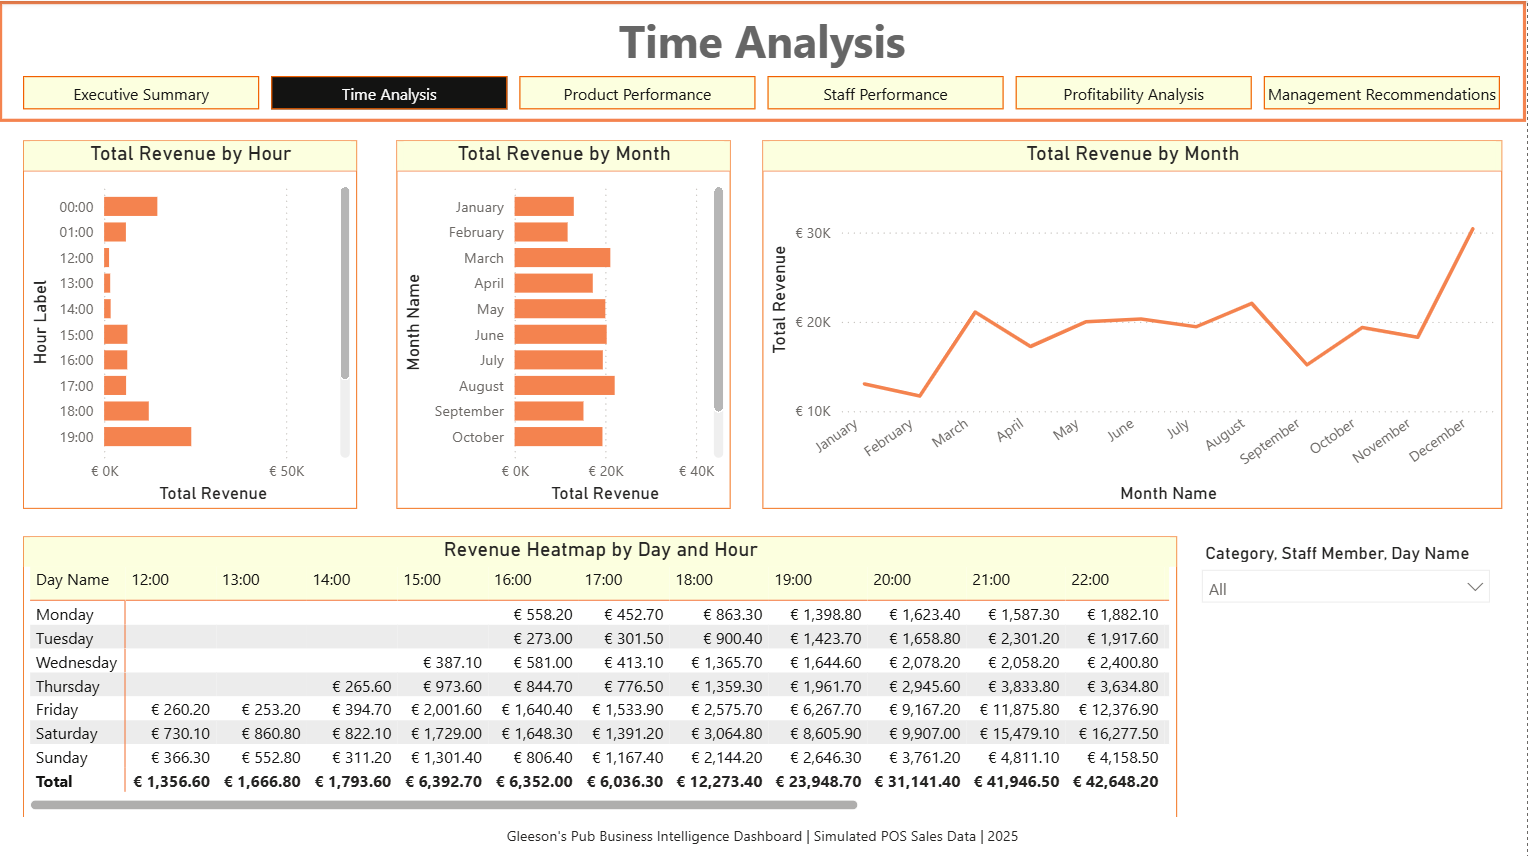

The dashboard page shown, as its layout file describes it:
{"tool":"powerbi","page":{"name":"Time Analysis","canvas":[1280,720],"ordinal":1},"visuals":[{"type":"clusteredBarChart","title":"Total Revenue by Hour","fields":{"Y":["pub_sales_data.Total Revenue"],"Category":["pub_sales_data.Hour Label"]},"box":[20,117.1,280,308.6],"z":0},{"type":"barChart","title":"Total Revenue by Month","fields":{"Category":["pub_sales_data.Month Name"],"Y":["pub_sales_data.Total Revenue"]},"box":[332.9,117.1,280,308.6],"z":1000},{"type":"lineChart","title":"Total Revenue by Month ","fields":{"Category":["pub_sales_data.Month Name"],"Y":["pub_sales_data.Total Revenue"]},"box":[640,117.1,620,308.6],"z":2000},{"type":"pivotTable","title":"Revenue Heatmap by Day and Hour","fields":{"Values":["pub_sales_data.Total Revenue"],"Rows":["pub_sales_data.Day Name"],"Columns":["pub_sales_data.Trading Hour Label"]},"box":[20,448.6,967.1,235.7],"z":3000},{"type":"textbox","box":[0,0,1280,101.4],"z":4000},{"type":"slicer","fields":{"Values":["pub_sales_data.Category","pub_sales_data.Staff Member","pub_sales_data.Day Name"]},"box":[998.6,448.6,261.4,64.3],"z":5000},{"type":"textbox","box":[0,684.3,1280,35.7],"z":6000},{"type":"pageNavigator","box":[20,62.9,1240,28.6],"z":7000}]}

Visuals, with their boxes in screenshot pixels (x1, y1, x2, y2), scaled from the page's 1280x720 canvas onto the 1528x856 screenshot:
"Total Revenue by Hour" clusteredBarChart: BBox(24, 139, 358, 506)
"Total Revenue by Month" barChart: BBox(397, 139, 732, 506)
"Total Revenue by Month " lineChart: BBox(764, 139, 1504, 506)
"Revenue Heatmap by Day and Hour" pivotTable: BBox(24, 533, 1178, 814)
textbox: BBox(0, 0, 1527, 121)
slicer - pub_sales_data.Category x pub_sales_data.Staff Member: BBox(1192, 533, 1504, 610)
textbox: BBox(0, 814, 1527, 855)
pageNavigator: BBox(24, 75, 1504, 109)
